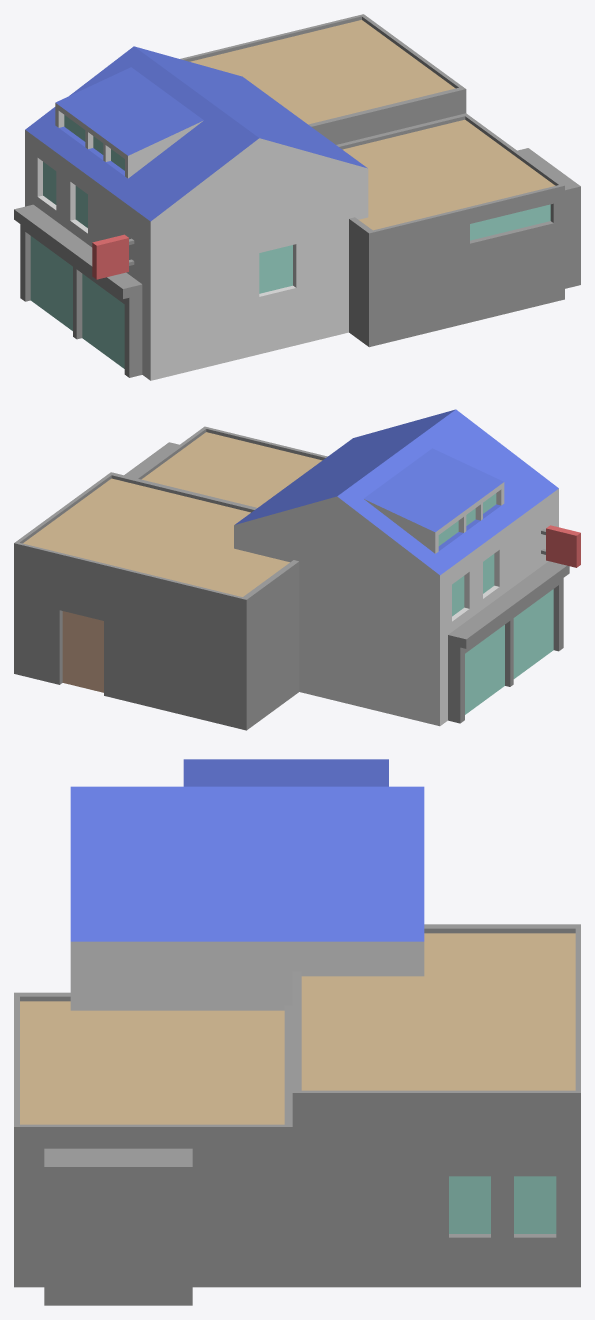
File: epicerie.fbx
The picture shows the model from 3 angles, top to bottom: view 1: azimuth 30°, elevation 25°; view 2: azimuth 150°, elevation 25°; view 3: azimuth 270°, elevation 25°; orthographic projection. The views are drawn at different scales.
Parts seen in each view (by area): view 1: epicerie; view 2: epicerie; view 3: epicerie.
Boxes of the visible parts, <box> form: epicerie: <box>14,14,580,380</box>; epicerie: <box>14,409,580,730</box>; epicerie: <box>14,759,580,1305</box>.
Size of the model in its own units: 423 by 190 by 321.
